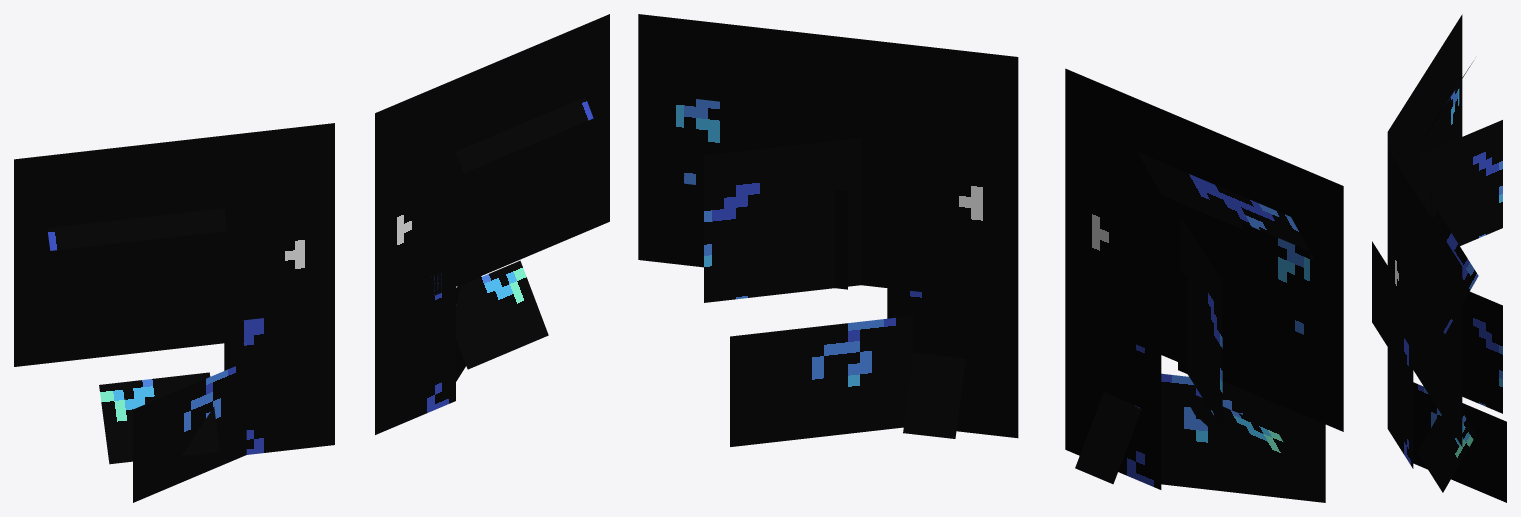
Rendered from sl_lightning_wings.glb.
3 renders of one model, left to right at view 1: azimuth 30°, elevation 25°; view 2: azimuth 150°, elevation 25°; view 3: azimuth 270°, elevation 25°, orthographic. The views are drawn at different scales.
Parts seen in each view (by area): view 1: bb_lightning_wings; view 2: bb_lightning_wings; view 3: bb_lightning_wings.
Part boxes in pixels (<box>): bb_lightning_wings: <box>14,14,609,502</box>; bb_lightning_wings: <box>638,14,1343,502</box>; bb_lightning_wings: <box>1372,14,1506,502</box>.
Bounding box in the file's own units: 3.75 × 1.94 × 0.8452.
1 material, 1 textured.
